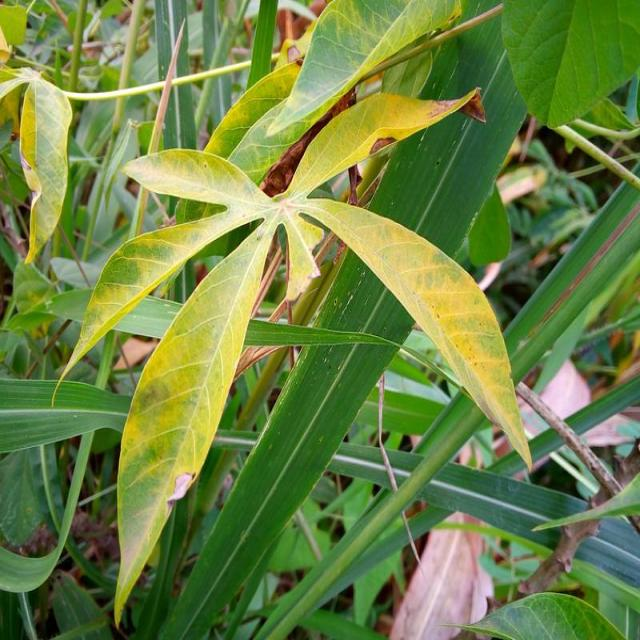cassava leaf: (54, 3, 536, 633), (112, 216, 278, 628), (290, 195, 536, 472), (19, 73, 74, 264)
